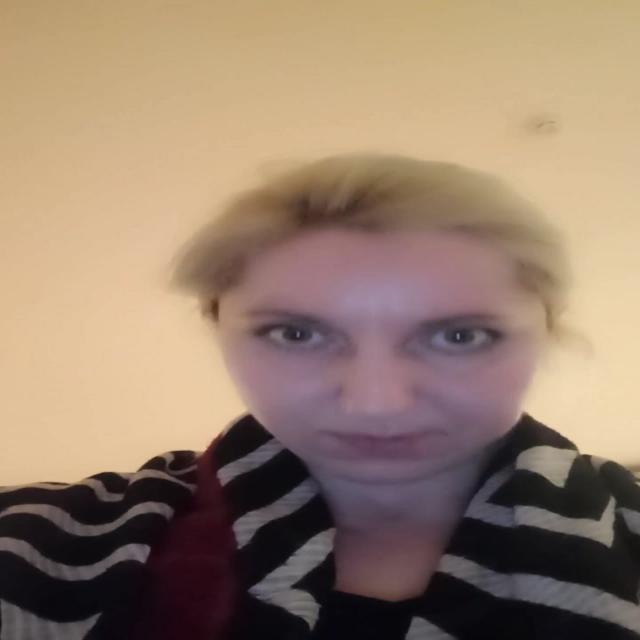eye: (254, 324, 332, 350), (425, 326, 495, 354)
nose: (333, 407, 424, 443)
